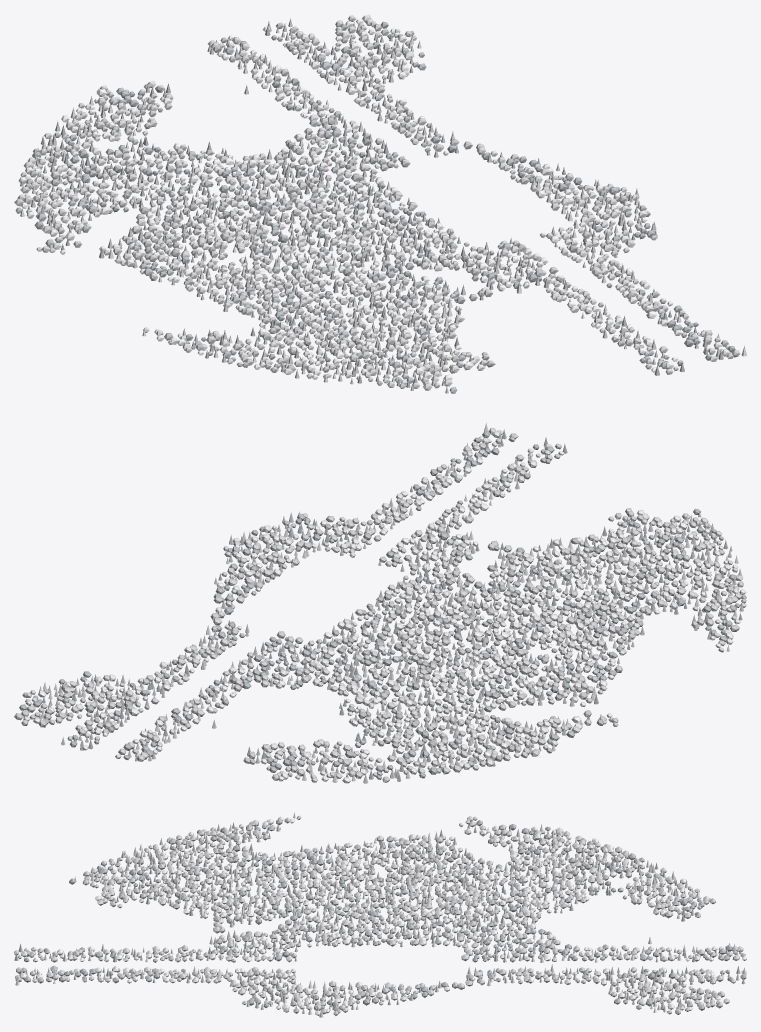
File: EarthCrowns.obj
3 views of the same model, one above another, from view 1: azimuth 30°, elevation 25°; view 2: azimuth 150°, elevation 25°; view 3: azimuth 270°, elevation 25° (orthographic). The views are drawn at different scales.
Visible parts, largest first — view 1: EarthCrowns; view 2: EarthCrowns; view 3: EarthCrowns.
Boxes of the visible parts, x1,y1,x2,y2 form: EarthCrowns: (14, 14, 746, 393); EarthCrowns: (14, 423, 746, 783); EarthCrowns: (14, 812, 746, 1017).
Size of the model in its own units: 989 by 32.69 by 1519.
Materials: 1 (1 with a texture image).
